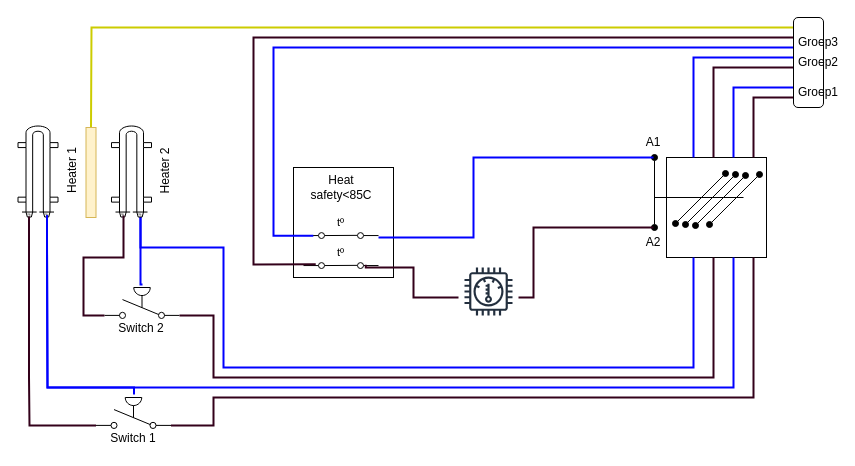
The diagram is 855 pixels wide and 466 high, and some of its shapes have lost their labels. The centre of each missing label's shape, as x and y in pixels:
4P Contactor: (x=716, y=207)
Thermostat: (x=488, y=291)
